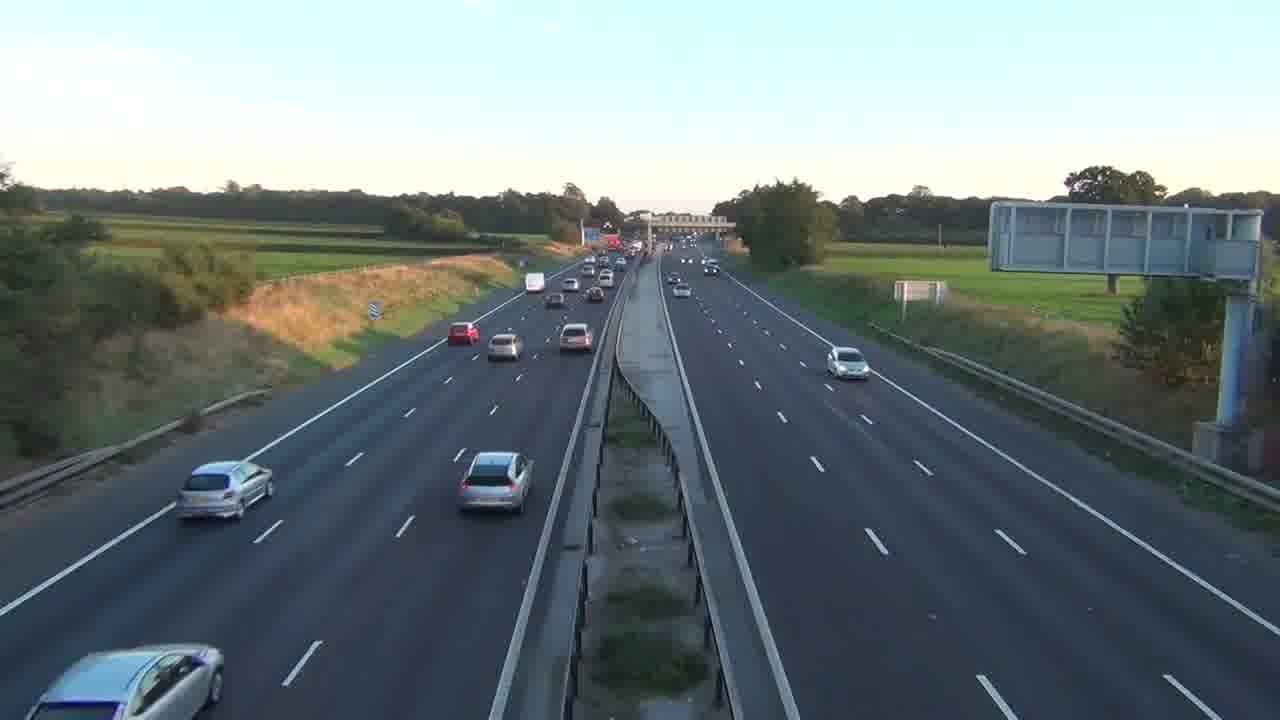car: (25, 641, 225, 719), (176, 460, 275, 521), (455, 450, 535, 515), (827, 346, 870, 381), (558, 322, 594, 354), (487, 332, 521, 363), (447, 321, 480, 347)
